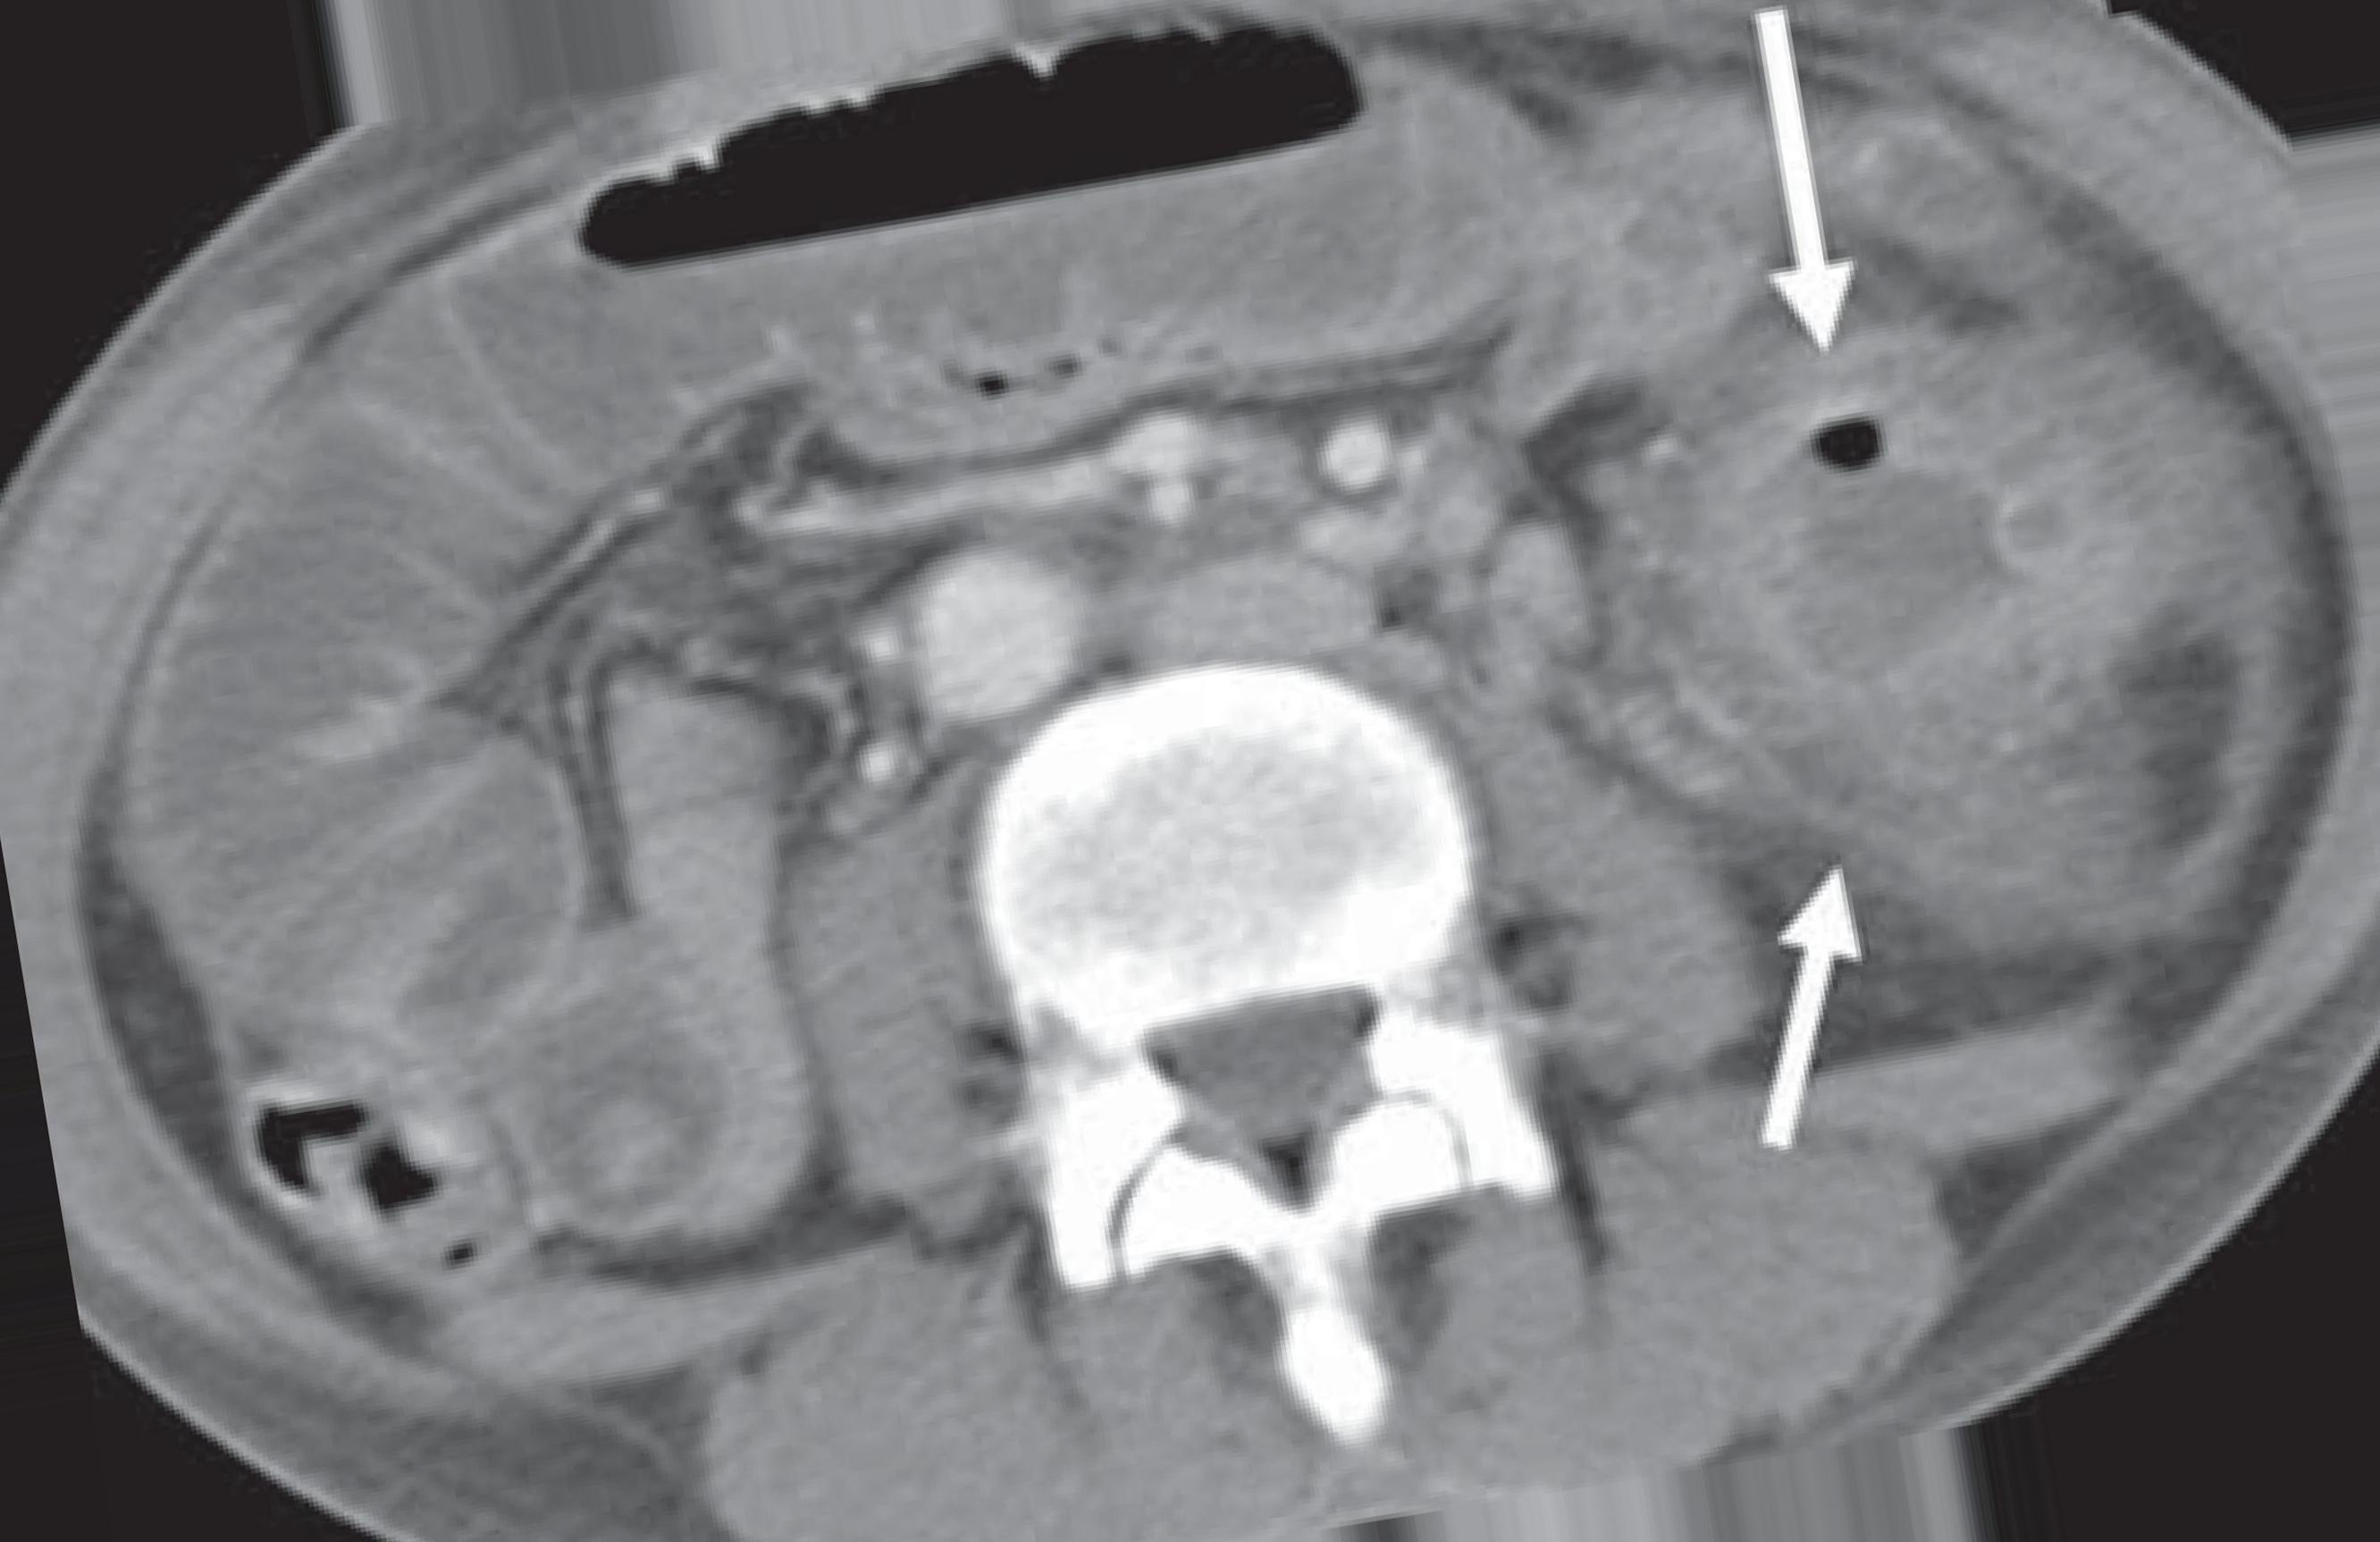anomaly: (1729, 458, 2059, 696)
